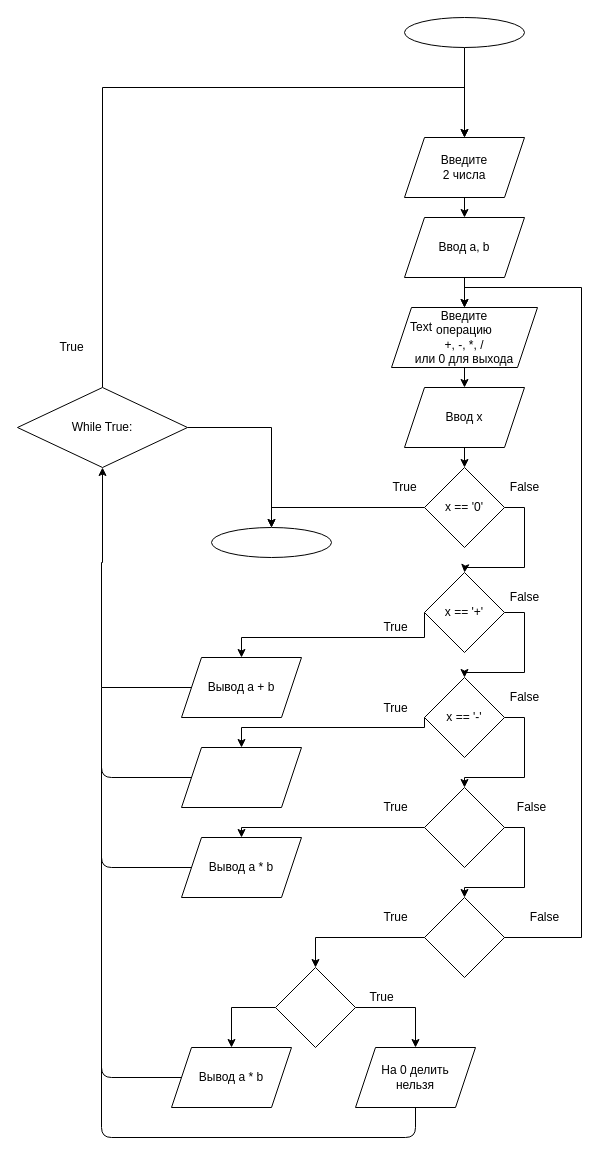
This 607x1156 diagram has some shape labels left out. Here are the shapes that lost their labels. From the top down, the centre of each, then its label:
[464,32]: Начало
[271,542]: Конец
[241,777]: Вывод a - b
[464,827]: x == '*'
[464,937]: x == '/'
[315,1007]: b == 0
